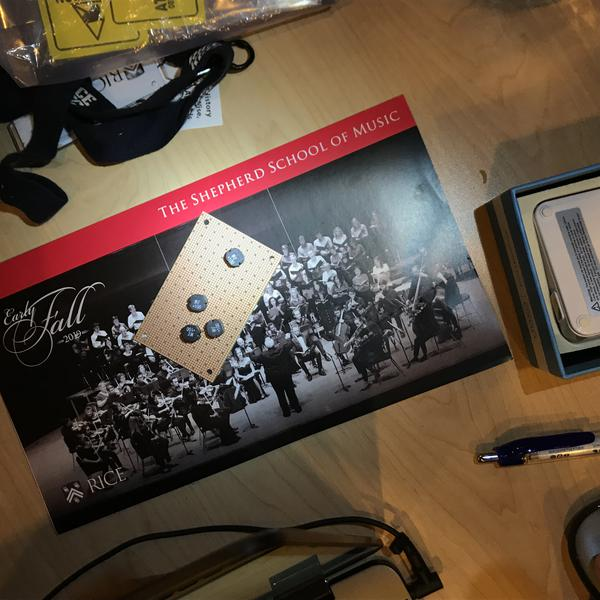board: (132, 210, 285, 384)
